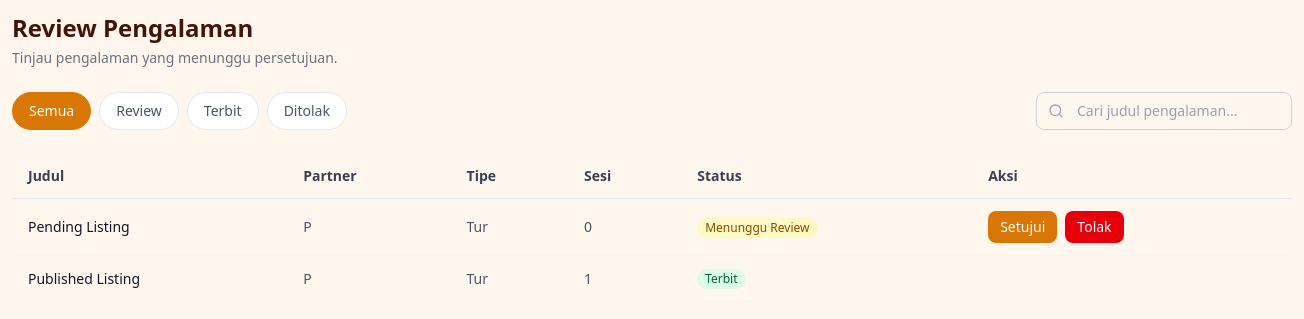
Admin listings page › renders status tabs and filters
Click the button "Terbit".
click(223, 111)  # box x1=187 y1=92 x2=259 y2=130
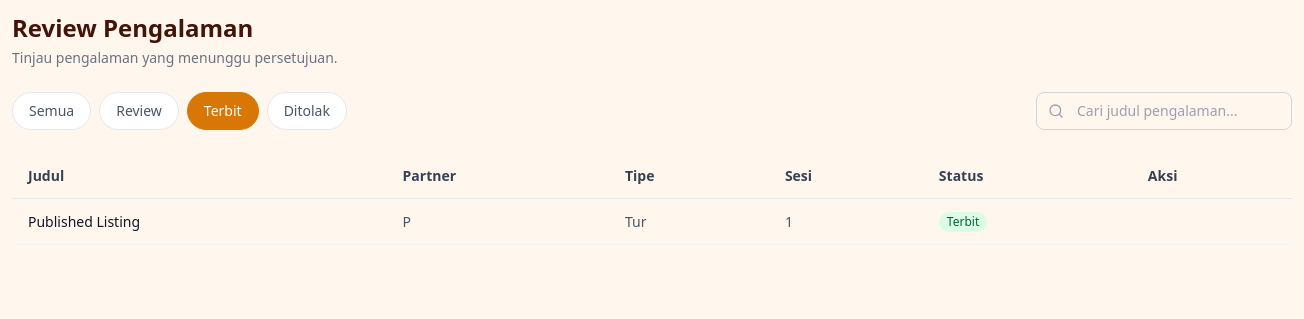
Expected: the text "Pending Listing" is not shown
